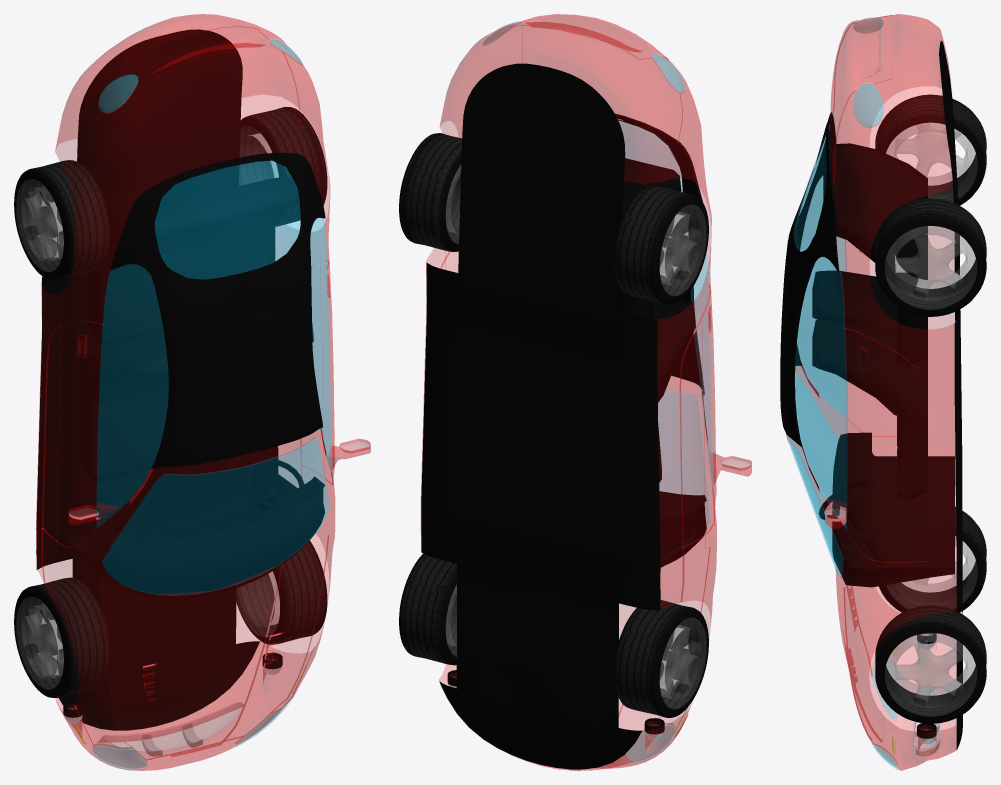
Rendered from SportsCar.glb.
The picture shows the model from 3 angles, left to right: view 1: azimuth 30°, elevation 25°; view 2: azimuth 150°, elevation 25°; view 3: azimuth 270°, elevation 25°; orthographic projection. The views are drawn at different scales.
Parts seen in each view (by area): view 1: 10614_2DoorSportscar-L1; view 2: 10614_2DoorSportscar-L1; view 3: 10614_2DoorSportscar-L1.
Part boxes in pixels (left/top/right/bottom): 10614_2DoorSportscar-L1: left=14, top=14, right=370, bottom=770; 10614_2DoorSportscar-L1: left=399, top=14, right=751, bottom=770; 10614_2DoorSportscar-L1: left=780, top=14, right=986, bottom=770.
Bounding box in the file's own units: 201 × 476 × 123.
Materials: 5 (2 with a texture image).
